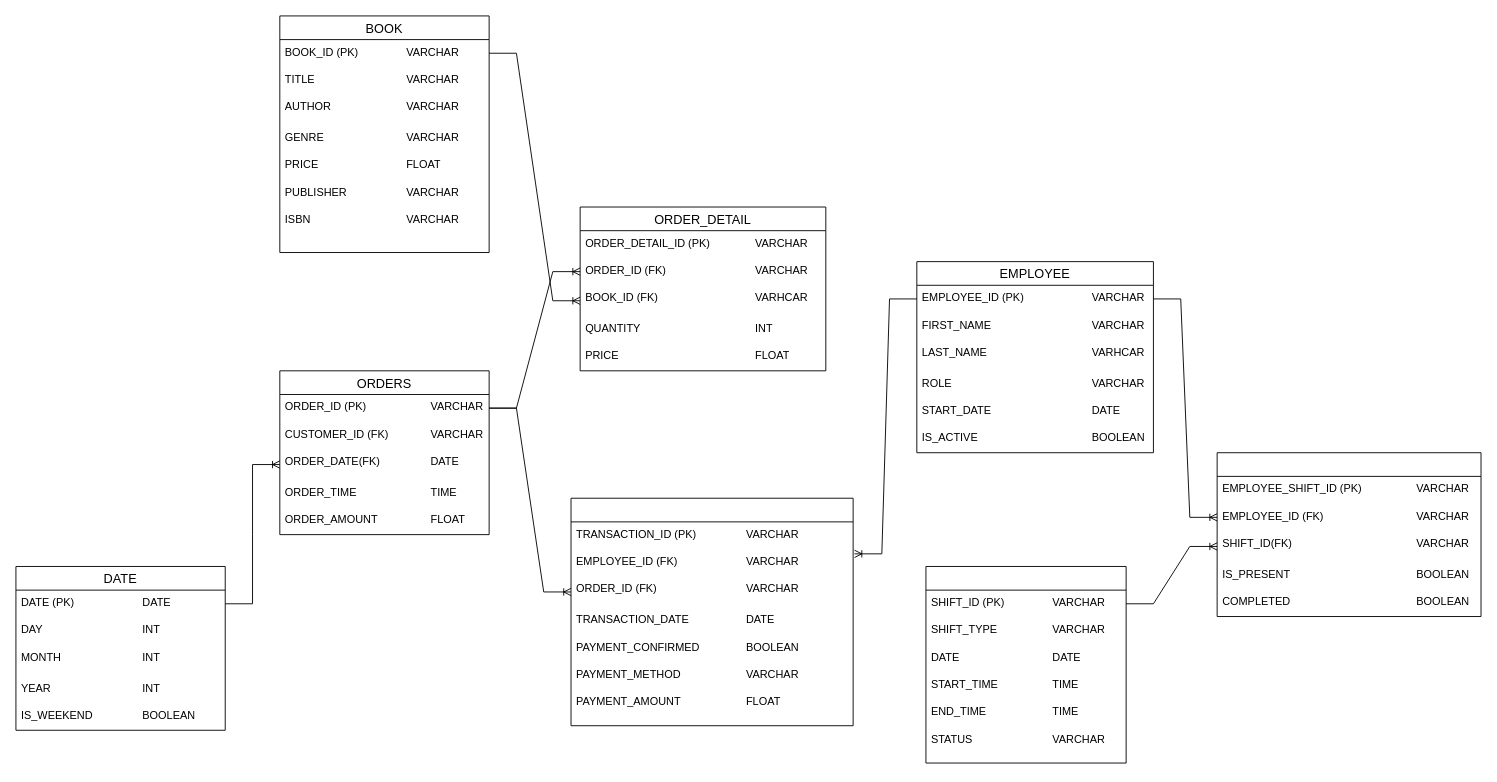
The diagram is 1497 pixels wide and 782 high, and some of its shapes have lost their labels. The box of each missing label's shape, as (x1, y1, x2, y2) in pixels:
EMPLOYEE_SHIFTS: (1216, 452, 1481, 617)
SALES: (570, 497, 853, 726)
SHIFTS: (925, 566, 1126, 763)
